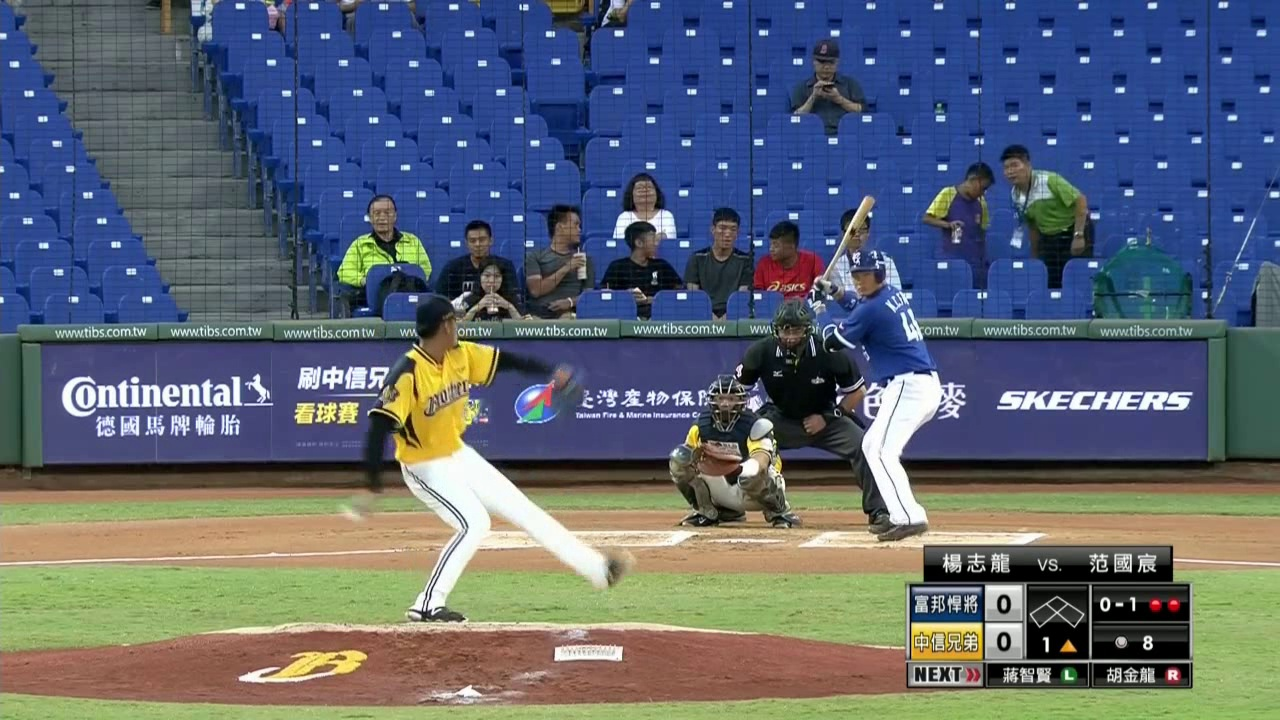ball: (339, 501, 371, 525)
base: (1029, 593, 1088, 628)
bat: (821, 193, 879, 280)
out: (1148, 596, 1182, 613)
score1: (985, 584, 1022, 619)
score2: (985, 623, 1022, 658)
session: (1039, 634, 1079, 653)
strikeball: (1097, 593, 1139, 613)
total: (1109, 631, 1159, 650)
